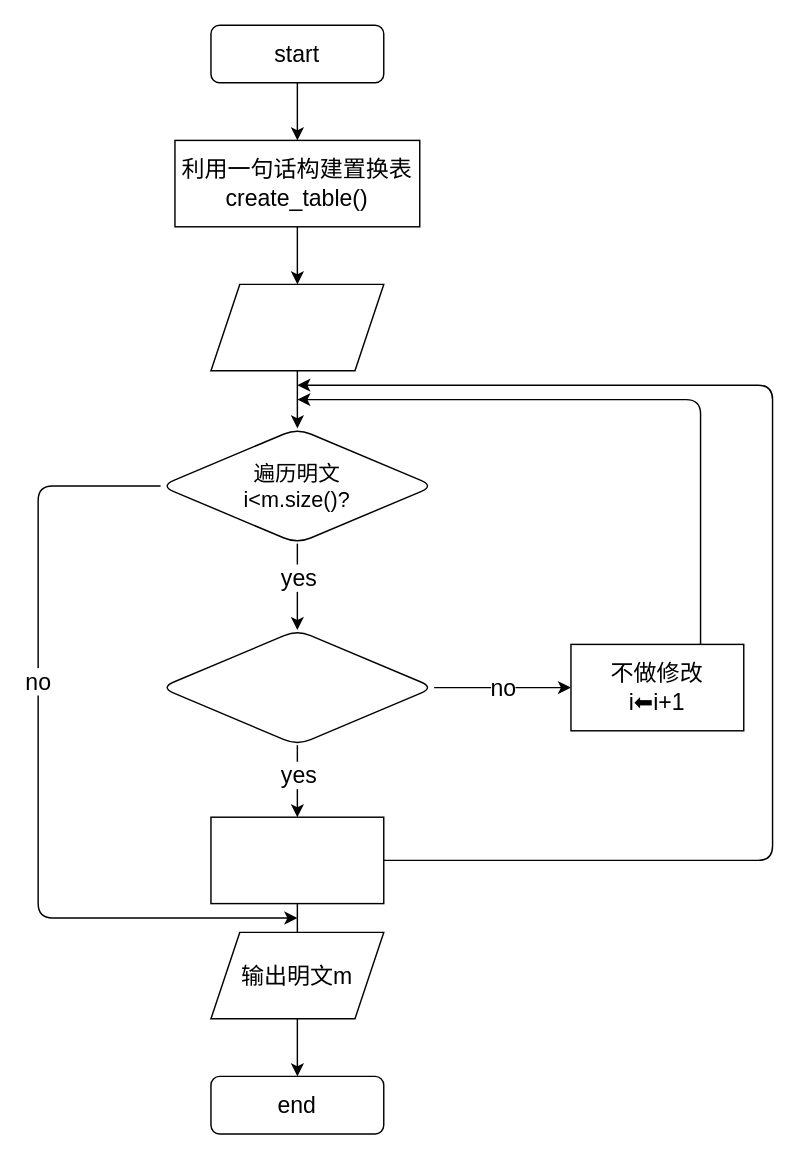
Image size: 809x1159. Some labels were removed from this diagram. Each missing label, with the centre of its shape:
"置换 m[i]=table[m[i]]" belongs at point 297,860.
"输入明文m" belongs at point 297,327.
"输入是否为字母 96 < m[i] < 123?" belongs at point 296,687.
